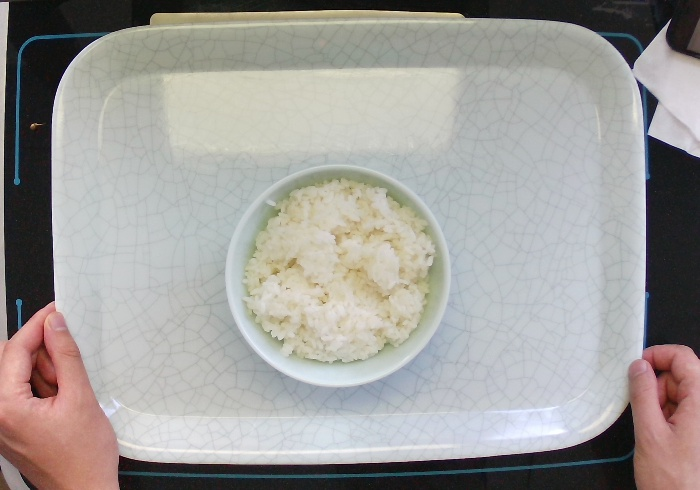JYsf-Fan_Wan: (220, 158, 450, 397)
